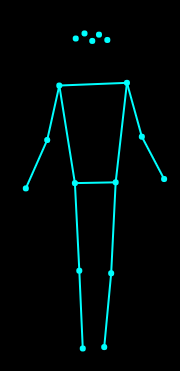mountain: (20, 25, 169, 354)
